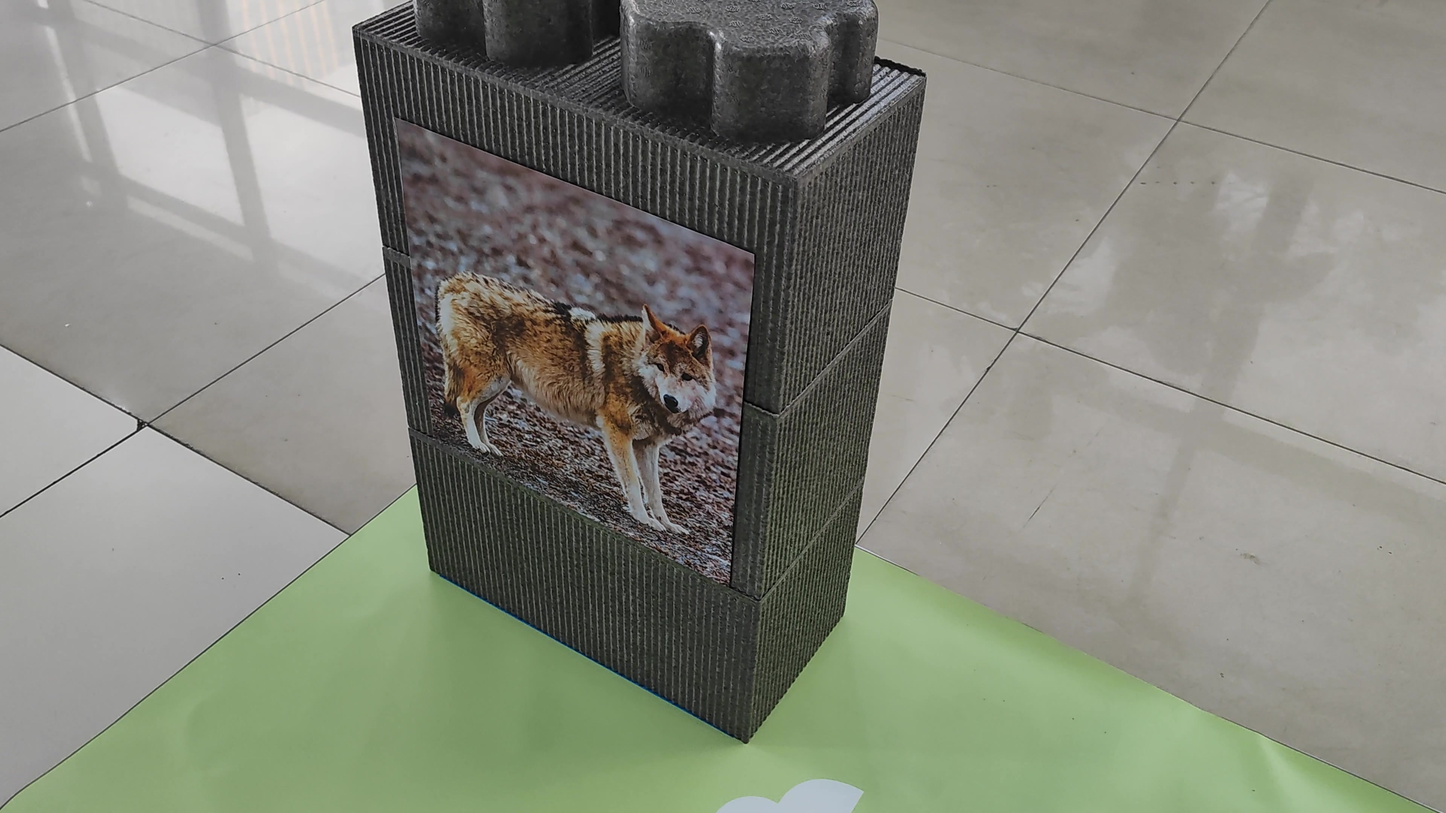wolf: (399, 171, 715, 536)
